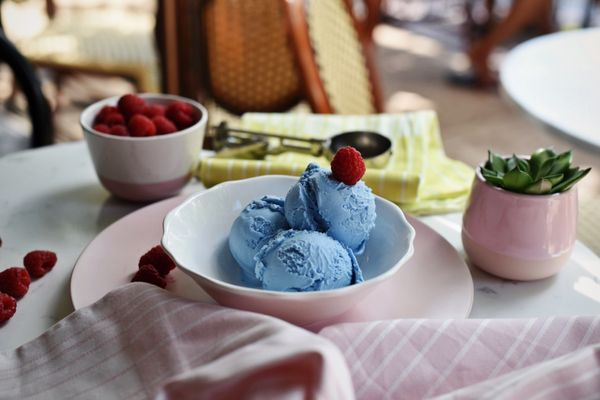sushi: (162, 159, 421, 329), (80, 92, 209, 202)
